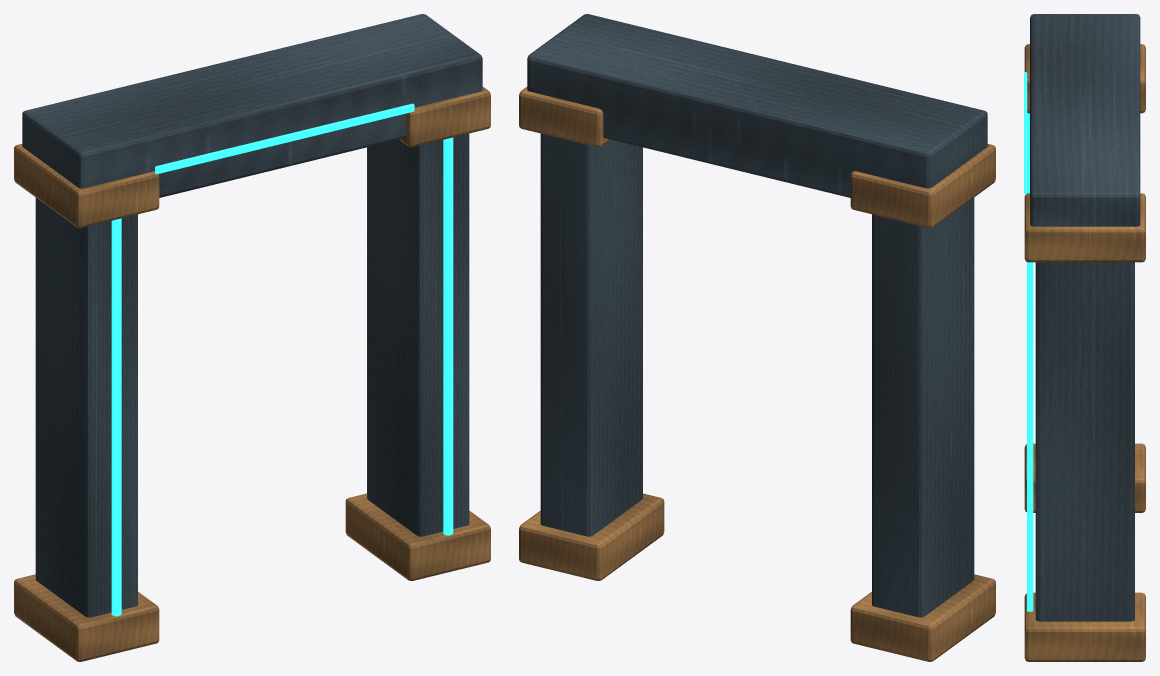
The model's file is arch.glb.
3 renders of one model, left to right at view 1: azimuth 30°, elevation 25°; view 2: azimuth 150°, elevation 25°; view 3: azimuth 270°, elevation 25°, orthographic. The views are drawn at different scales.
Visible parts, largest first — view 1: arch; view 2: arch; view 3: arch.
Boxes of the visible parts, box(x1,y1,x2,y2) form: arch: box(14, 14, 490, 661); arch: box(519, 14, 995, 661); arch: box(1024, 14, 1145, 661).
Bounding box in the file's own units: 4 × 4.7 × 1.11.
3 materials, 2 textured.
